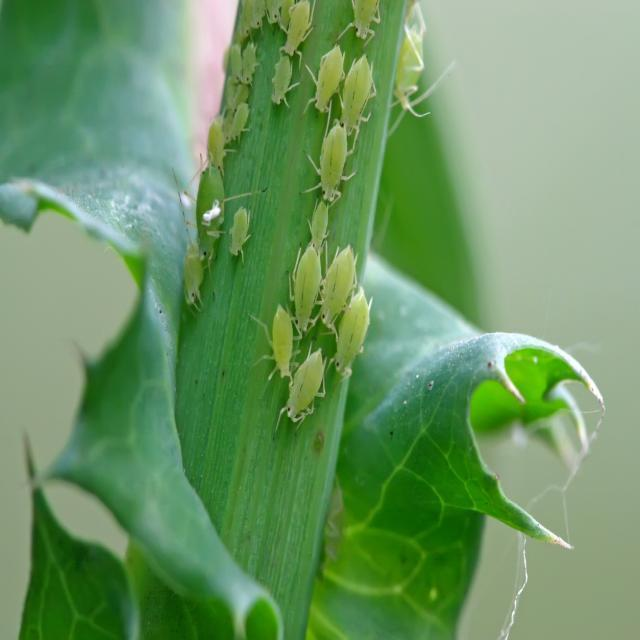Aphids: (392, 10, 432, 146), (307, 118, 353, 226), (332, 59, 380, 161), (331, 293, 376, 396), (312, 246, 361, 337), (282, 236, 324, 338), (193, 163, 235, 262), (283, 344, 328, 432), (263, 298, 303, 391), (176, 226, 216, 317), (300, 186, 339, 272), (308, 38, 343, 132), (226, 197, 260, 273), (344, 1, 394, 50), (285, 1, 316, 65), (200, 108, 227, 176), (272, 61, 298, 124), (242, 1, 285, 39), (225, 103, 258, 151), (238, 36, 264, 86), (225, 33, 243, 96), (222, 78, 242, 120)
